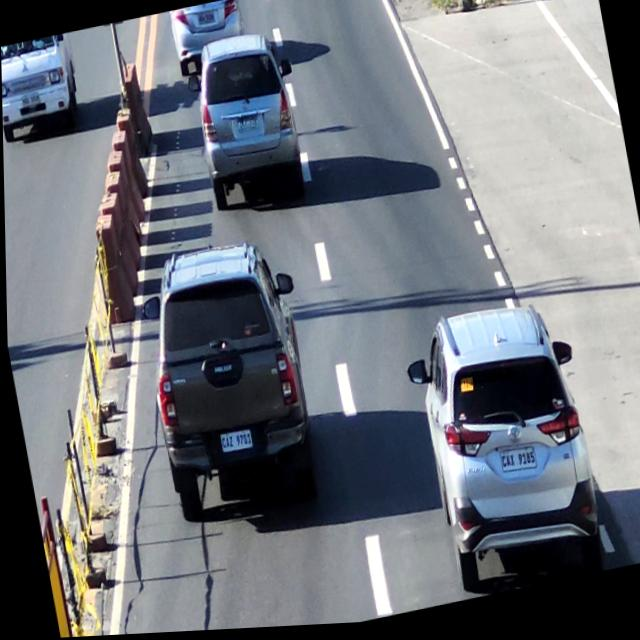Car: (407, 295, 605, 595), (134, 237, 316, 512), (186, 31, 305, 210), (168, 0, 247, 76)
License-Plate: (494, 445, 539, 481), (217, 427, 253, 458), (234, 112, 261, 139), (192, 8, 217, 34)
